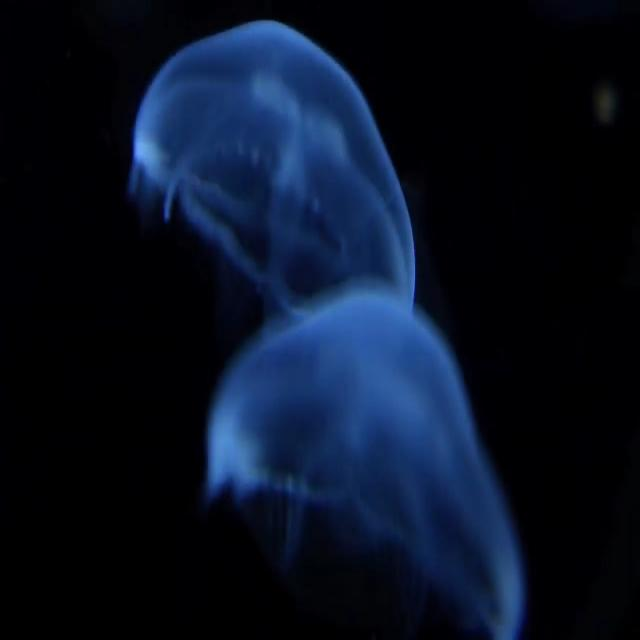Moon-jellyfish: (206, 308, 528, 639), (127, 20, 418, 336)
